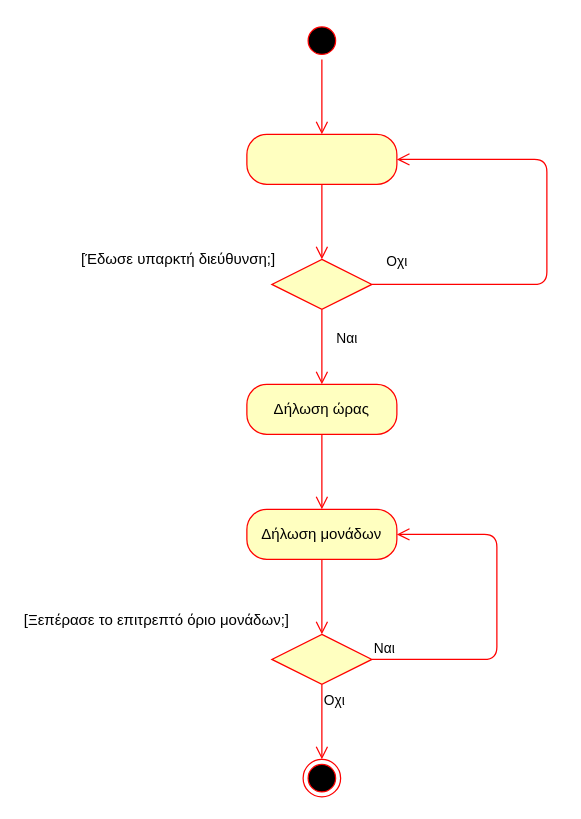
The diagram is 581 pixels wide and 819 high, and some of its shapes have lost their labels. Each missing label, with the centre of its shape:
"Condition" goes at [321,658].
"Δήλωση διεύθυνσης" goes at [321,158].
